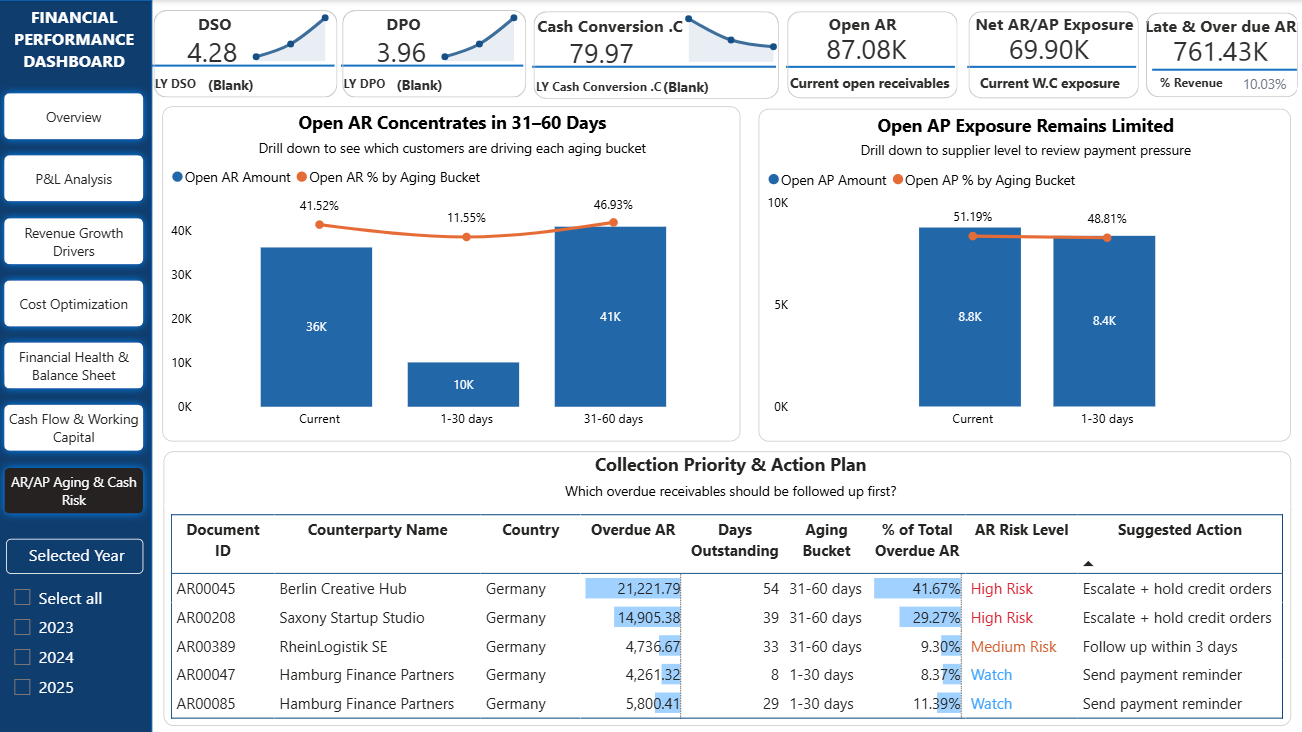

Layout of this report page (visuals, bound fields, positions):
{"tool":"powerbi","page":{"name":"AR/AP Aging & Cash Risk","canvas":[1280,720],"ordinal":6},"visuals":[{"type":"group","id":"g1","title":"Group 1","box":[0,0,152.9,720.2],"z":0},{"type":"shape","box":[0,0,152.9,720.2],"z":0,"group":"g1"},{"type":"textbox","box":[0,0,152.9,83.2],"z":1000,"group":"g1"},{"type":"group","id":"g2","title":"Group 8","box":[152.6,0,180.7,101.1],"z":1000},{"type":"card","fields":{"Values":["_Measures.Open AR Card"]},"box":[781.8,33.6,135.9,28.8],"z":1000,"group":"g11"},{"type":"card","fields":{"Values":["_Measures.Net AR/AP Exposure Card"]},"box":[959,33.7,135.9,28.8],"z":1000,"group":"g12"},{"type":"card","fields":{"Values":["_Measures.DSO Card"]},"box":[153.7,34.6,110.7,33.6],"z":1000,"group":"g8"},{"type":"card","fields":{"Values":["_Measures.DPO Card"]},"box":[339.1,34.6,110.7,33.6],"z":1000,"group":"g9"},{"type":"card","fields":{"Values":["_Measures.Overdue AR by Due Date"]},"box":[1125,35.1,141.5,29.2],"z":1000,"group":"g13"},{"type":"card","fields":{"Values":["_Measures.Cash Conversion Cycle Card"]},"box":[526.4,36,128.8,33.6],"z":1000,"group":"g10"},{"type":"group","id":"g3","title":"Group 8","box":[338,0,182.9,101.1],"z":2000},{"type":"textbox","box":[160.1,6.9,102.7,38],"z":2000,"group":"g8"},{"type":"textbox","box":[345.5,6.9,102.7,38],"z":2000,"group":"g9"},{"type":"textbox","box":[778.6,6.9,137.5,33.9],"z":2000,"group":"g11"},{"type":"textbox","box":[947.4,6.9,170.4,34.6],"z":2000,"group":"g12"},{"type":"textbox","box":[525,8.3,174.1,37.4],"z":2000,"group":"g10"},{"type":"textbox","box":[1113.8,8.3,163.5,41.2],"z":2000,"group":"g13"},{"type":"pageNavigator","box":[0,83.2,152.9,431.7],"z":2000,"group":"g1"},{"type":"group","id":"g4","title":"Group 8","box":[525,1.4,246.6,101.1],"z":3000},{"type":"textbox","box":[9.8,527,134.5,34.2],"z":3000,"group":"g1"},{"type":"lineChart","fields":{"Category":["Dim_Date.Year"],"Y":["_Measures.DSO Card"]},"box":[239.1,0,92.5,60],"z":4000,"group":"g8"},{"type":"lineChart","fields":{"Category":["Dim_Date.Year"],"Y":["_Measures.DSO Card"]},"box":[424.5,0,92.5,60],"z":4000,"group":"g9"},{"type":"lineChart","fields":{"Category":["Dim_Date.Year"],"Y":["_Measures.Cash Conversion Cycle Card"]},"box":[663.6,1.4,108,59.6],"z":4000,"group":"g10"},{"type":"group","id":"g5","title":"Group 8","box":[773,6.9,167.6,94.2],"z":4000},{"type":"slicer","fields":{"Values":["Dim_Date.Year"]},"box":[9.8,569.8,134.5,150.4],"z":4000,"group":"g1"},{"type":"group","id":"g6","title":"Group 8","box":[946.1,6.9,171.8,94.2],"z":5000},{"type":"group","id":"g7","title":"Group 8","box":[1113.8,8.3,163.5,95.6],"z":6000},{"type":"textbox","box":[1138.1,66,110.2,37.9],"z":6000,"group":"g13"},{"type":"textbox","box":[946.1,66.4,169,34.6],"z":6000,"group":"g12"},{"type":"textbox","box":[775.9,67,158.7,34.1],"z":6000,"group":"g11"},{"type":"textbox","box":[155.3,67.8,57.5,33.3],"z":6000,"group":"g8"},{"type":"textbox","box":[340.7,67.8,57.5,33.3],"z":6000,"group":"g9"},{"type":"textbox","box":[528.2,69.3,128.8,33.2],"z":6000,"group":"g10"},{"type":"lineClusteredColumnComboChart","title":"Open AR Concentrates in 31–60 Days","fields":{"Category":["Fact_AR_AP.Aging Bucket","Fact_AR_AP.Counterparty Name"],"Y":["_Measures.Open AR Amount"],"Y2":["_Measures.Open AR % by Aging Bucket"]},"box":[162,104,565.7,328.1],"z":7000},{"type":"card","fields":{"Values":["_Measures.LY DSO"]},"box":[202.3,68.5,53.1,27.4],"z":8000,"group":"g8"},{"type":"card","fields":{"Values":["_Measures.LY DPO"]},"box":[387.7,68.5,53.1,27.4],"z":8000,"group":"g9"},{"type":"card","fields":{"Values":["_Measures.LY Cash Conversion Cycle"]},"box":[644.8,69.3,61,27.7],"z":8000,"group":"g10"},{"type":"lineClusteredColumnComboChart","title":"Open AP Exposure Remains Limited","fields":{"Category":["Fact_AR_AP.Aging Bucket","Fact_AR_AP.Counterparty Name"],"Y":["_Measures.Open AP Amount"],"Y2":["_Measures.Open AP % by Aging Bucket"]},"box":[745.3,106.7,521.2,325.4],"z":8000},{"type":"card","fields":{"Values":["_Measures.DSO Display"]},"box":[250.3,63.4,72,36],"z":9000,"group":"g2"},{"type":"card","fields":{"Values":["_Measures.DPO Display"]},"box":[435.7,63.4,72,36],"z":9000,"group":"g3"},{"type":"card","fields":{"Values":["_Measures.CCC Display"]},"box":[686.4,69.3,84.5,31.9],"z":9000,"group":"g4"},{"type":"card","fields":{"Values":["_Measures.Overdue AR % of Revenue"]},"box":[1200.6,71.5,75.5,24.2],"z":9000,"group":"g7"},{"type":"tableEx","title":"Collection Priority & Action Plan","fields":{"Values":["Fact_AR_AP.Document ID","Fact_AR_AP.Counterparty Name","Fact_AR_AP.Country","Fact_AR_AP.Amount EUR","_Measures.Days Outstanding Display","Fact_AR_AP.Aging Bucket","_Measures.% of Total Overdue AR","_Measures.AR Risk Level","_Measures.Suggested Action"]},"box":[163.9,441.4,1103,269],"z":9000},{"type":"shape","box":[152.6,60,178.2,8.6],"z":10000,"group":"g8"},{"type":"shape","box":[338,60,178.2,8.6],"z":10000,"group":"g9"},{"type":"shape","box":[773,60.1,165.2,8.5],"z":10000,"group":"g11"},{"type":"shape","box":[950.2,60.2,165.2,8.5],"z":10000,"group":"g12"},{"type":"shape","box":[525,61,238.5,8.3],"z":10000,"group":"g10"},{"type":"shape","box":[1130.6,61.8,141.5,11.7],"z":10000,"group":"g13"},{"type":"shape","box":[153.4,10.3,179.9,85.7],"z":11000,"group":"g8"},{"type":"shape","box":[338.8,10.3,179.9,85.7],"z":11000,"group":"g9"},{"type":"shape","box":[773.7,10.7,166.8,85.2],"z":11000,"group":"g11"},{"type":"shape","box":[950.9,10.8,166.8,85.2],"z":11000,"group":"g12"},{"type":"shape","box":[526.6,11.1,240.1,85.9],"z":11000,"group":"g10"},{"type":"shape","box":[1125.2,11.6,149.6,83],"z":11000,"group":"g13"},{"type":"group","id":"g8","title":"Group 3","box":[152.6,0,180.7,101.1],"z":11004,"group":"g2"},{"type":"group","id":"g9","title":"Group 3","box":[338,0,180.7,101.1],"z":11004,"group":"g3"},{"type":"group","id":"g10","title":"Group 3","box":[525,1.4,246.6,101.1],"z":11004,"group":"g4"},{"type":"group","id":"g11","title":"Group 3","box":[773,6.9,167.5,94.2],"z":11004,"group":"g5"},{"type":"group","id":"g12","title":"Group 3","box":[946.1,6.9,171.8,94.2],"z":11004,"group":"g6"},{"type":"group","id":"g13","title":"Group 3","box":[1113.8,8.3,163.5,95.6],"z":11004,"group":"g7"}]}

Visuals, with their boxes in screenshot pixels (x1, y1, x2, y2), scaled from the page's 1280x720 canvas onto the 1302x732 screenshot:
"Group 1" group: left=0, top=0, right=156, bottom=731
shape: left=0, top=0, right=156, bottom=731
textbox: left=0, top=0, right=156, bottom=85
"Group 8" group: left=155, top=0, right=339, bottom=103
card - _Measures.Open AR Card: left=795, top=34, right=933, bottom=63
card - _Measures.Net AR/AP Exposure Card: left=975, top=34, right=1114, bottom=64
card - _Measures.DSO Card: left=156, top=35, right=269, bottom=69
card - _Measures.DPO Card: left=345, top=35, right=458, bottom=69
card - _Measures.Overdue AR by Due Date: left=1144, top=36, right=1288, bottom=65
card - _Measures.Cash Conversion Cycle Card: left=535, top=37, right=666, bottom=71
"Group 8" group: left=344, top=0, right=530, bottom=103
textbox: left=163, top=7, right=267, bottom=46
textbox: left=351, top=7, right=456, bottom=46
textbox: left=792, top=7, right=932, bottom=41
textbox: left=964, top=7, right=1137, bottom=42
textbox: left=534, top=8, right=711, bottom=46
textbox: left=1133, top=8, right=1299, bottom=50
pageNavigator: left=0, top=85, right=156, bottom=523
"Group 8" group: left=534, top=1, right=785, bottom=104
textbox: left=10, top=536, right=147, bottom=571
lineChart - Dim_Date.Year x _Measures.DSO Card: left=243, top=0, right=337, bottom=61
lineChart - Dim_Date.Year x _Measures.DSO Card: left=432, top=0, right=526, bottom=61
lineChart - Dim_Date.Year x _Measures.Cash Conversion Cycle Card: left=675, top=1, right=785, bottom=62
"Group 8" group: left=786, top=7, right=957, bottom=103
slicer - Dim_Date.Year: left=10, top=579, right=147, bottom=731
"Group 8" group: left=962, top=7, right=1137, bottom=103
"Group 8" group: left=1133, top=8, right=1299, bottom=106
textbox: left=1158, top=67, right=1270, bottom=106
textbox: left=962, top=68, right=1134, bottom=103
textbox: left=789, top=68, right=951, bottom=103
textbox: left=158, top=69, right=216, bottom=103
textbox: left=347, top=69, right=405, bottom=103
textbox: left=537, top=70, right=668, bottom=104
"Open AR Concentrates in 31–60 Days" lineClusteredColumnComboChart: left=165, top=106, right=740, bottom=439
card - _Measures.LY DSO: left=206, top=70, right=260, bottom=97
card - _Measures.LY DPO: left=394, top=70, right=448, bottom=97
card - _Measures.LY Cash Conversion Cycle: left=656, top=70, right=718, bottom=99
"Open AP Exposure Remains Limited" lineClusteredColumnComboChart: left=758, top=108, right=1288, bottom=439
card - _Measures.DSO Display: left=255, top=64, right=328, bottom=101
card - _Measures.DPO Display: left=443, top=64, right=516, bottom=101
card - _Measures.CCC Display: left=698, top=70, right=784, bottom=103
card - _Measures.Overdue AR % of Revenue: left=1221, top=73, right=1298, bottom=97
"Collection Priority & Action Plan" tableEx: left=167, top=449, right=1289, bottom=722
shape: left=155, top=61, right=336, bottom=70
shape: left=344, top=61, right=525, bottom=70
shape: left=786, top=61, right=954, bottom=70
shape: left=967, top=61, right=1135, bottom=70
shape: left=534, top=62, right=777, bottom=70
shape: left=1150, top=63, right=1294, bottom=75
shape: left=156, top=10, right=339, bottom=98
shape: left=345, top=10, right=528, bottom=98
shape: left=787, top=11, right=957, bottom=97
shape: left=967, top=11, right=1137, bottom=98
shape: left=536, top=11, right=780, bottom=99
shape: left=1145, top=12, right=1297, bottom=96
"Group 3" group: left=155, top=0, right=339, bottom=103
"Group 3" group: left=344, top=0, right=528, bottom=103
"Group 3" group: left=534, top=1, right=785, bottom=104
"Group 3" group: left=786, top=7, right=957, bottom=103
"Group 3" group: left=962, top=7, right=1137, bottom=103
"Group 3" group: left=1133, top=8, right=1299, bottom=106
